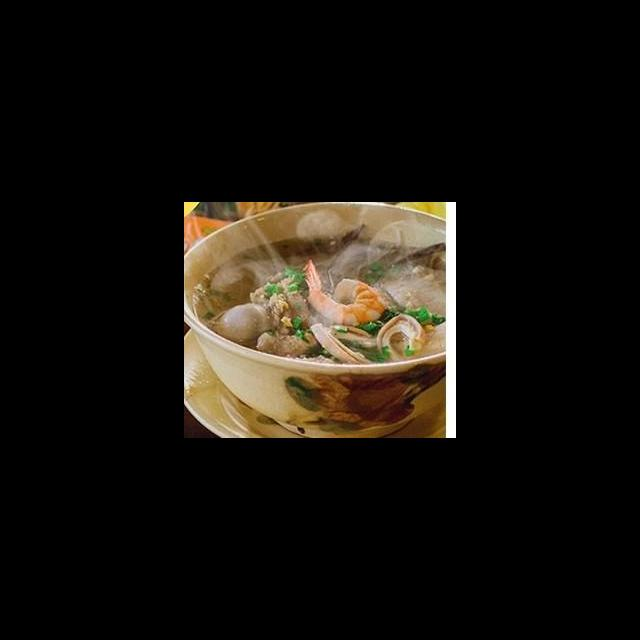gan: (382, 231, 446, 268)
thit heo: (378, 273, 446, 322)
tom: (299, 255, 389, 328)
